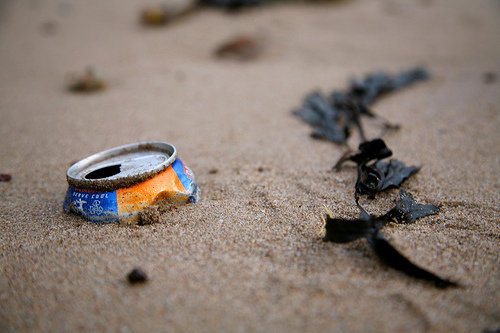litter: (65, 141, 200, 224)
